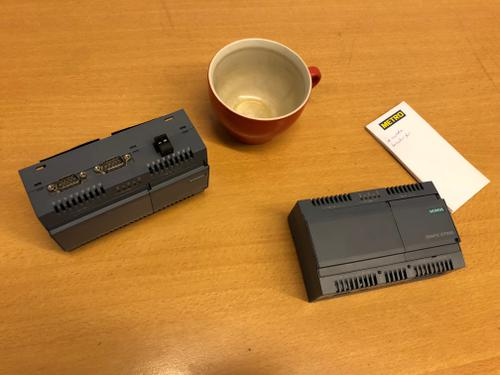device: (19, 109, 210, 253), (288, 181, 466, 304)
